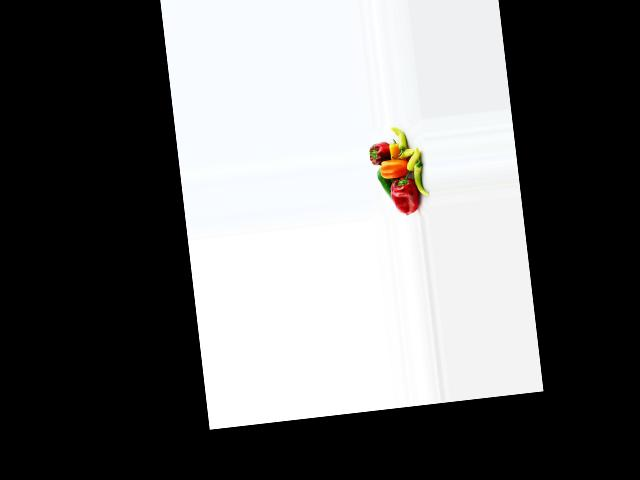bell_pepper: (412, 156, 428, 198)
